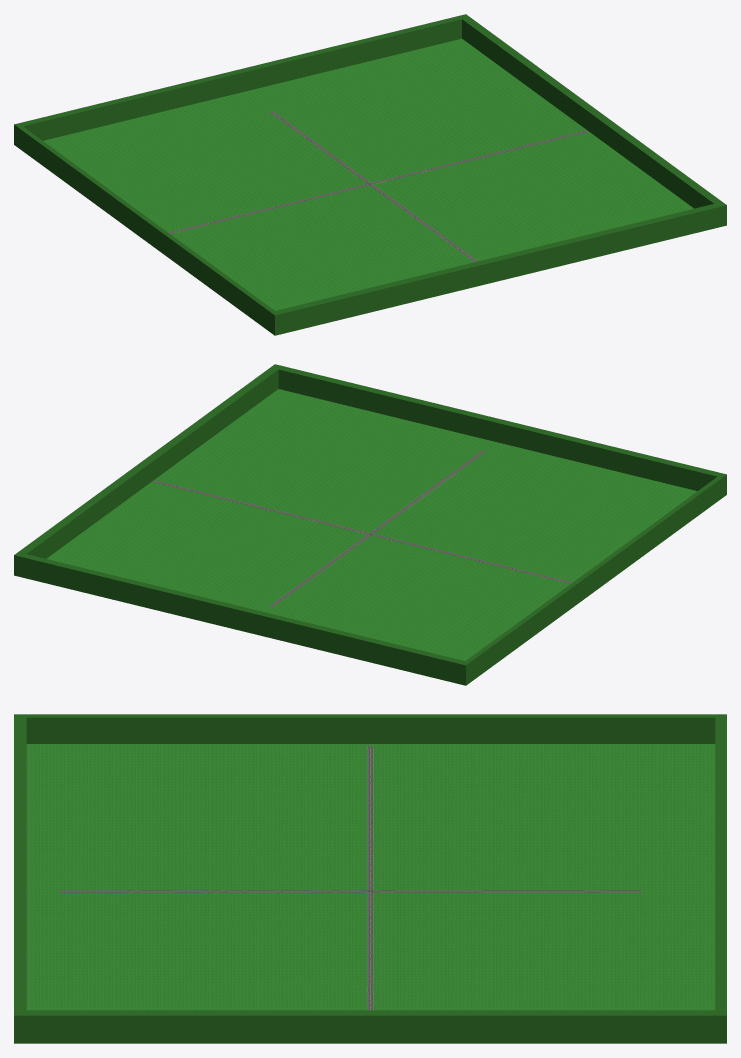
Rendered from map2.obj.
3 views of the same model, one above another, from view 1: azimuth 30°, elevation 25°; view 2: azimuth 150°, elevation 25°; view 3: azimuth 270°, elevation 25° (orthographic). The views are drawn at different scales.
Visible parts, largest first — view 1: Cube, Cube.001; view 2: Cube, Cube.001; view 3: Cube, Cube.001.
Part boxes in pixels (left/top/right/bottom): Cube: left=14, top=14, right=726, bottom=335; Cube.001: left=168, top=111, right=588, bottom=261; Cube: left=14, top=364, right=726, bottom=685; Cube.001: left=152, top=450, right=572, bottom=606; Cube: left=14, top=714, right=726, bottom=1043; Cube.001: left=59, top=745, right=641, bottom=1010.
Size of the model in its own units: 500 by 21.54 by 500.
